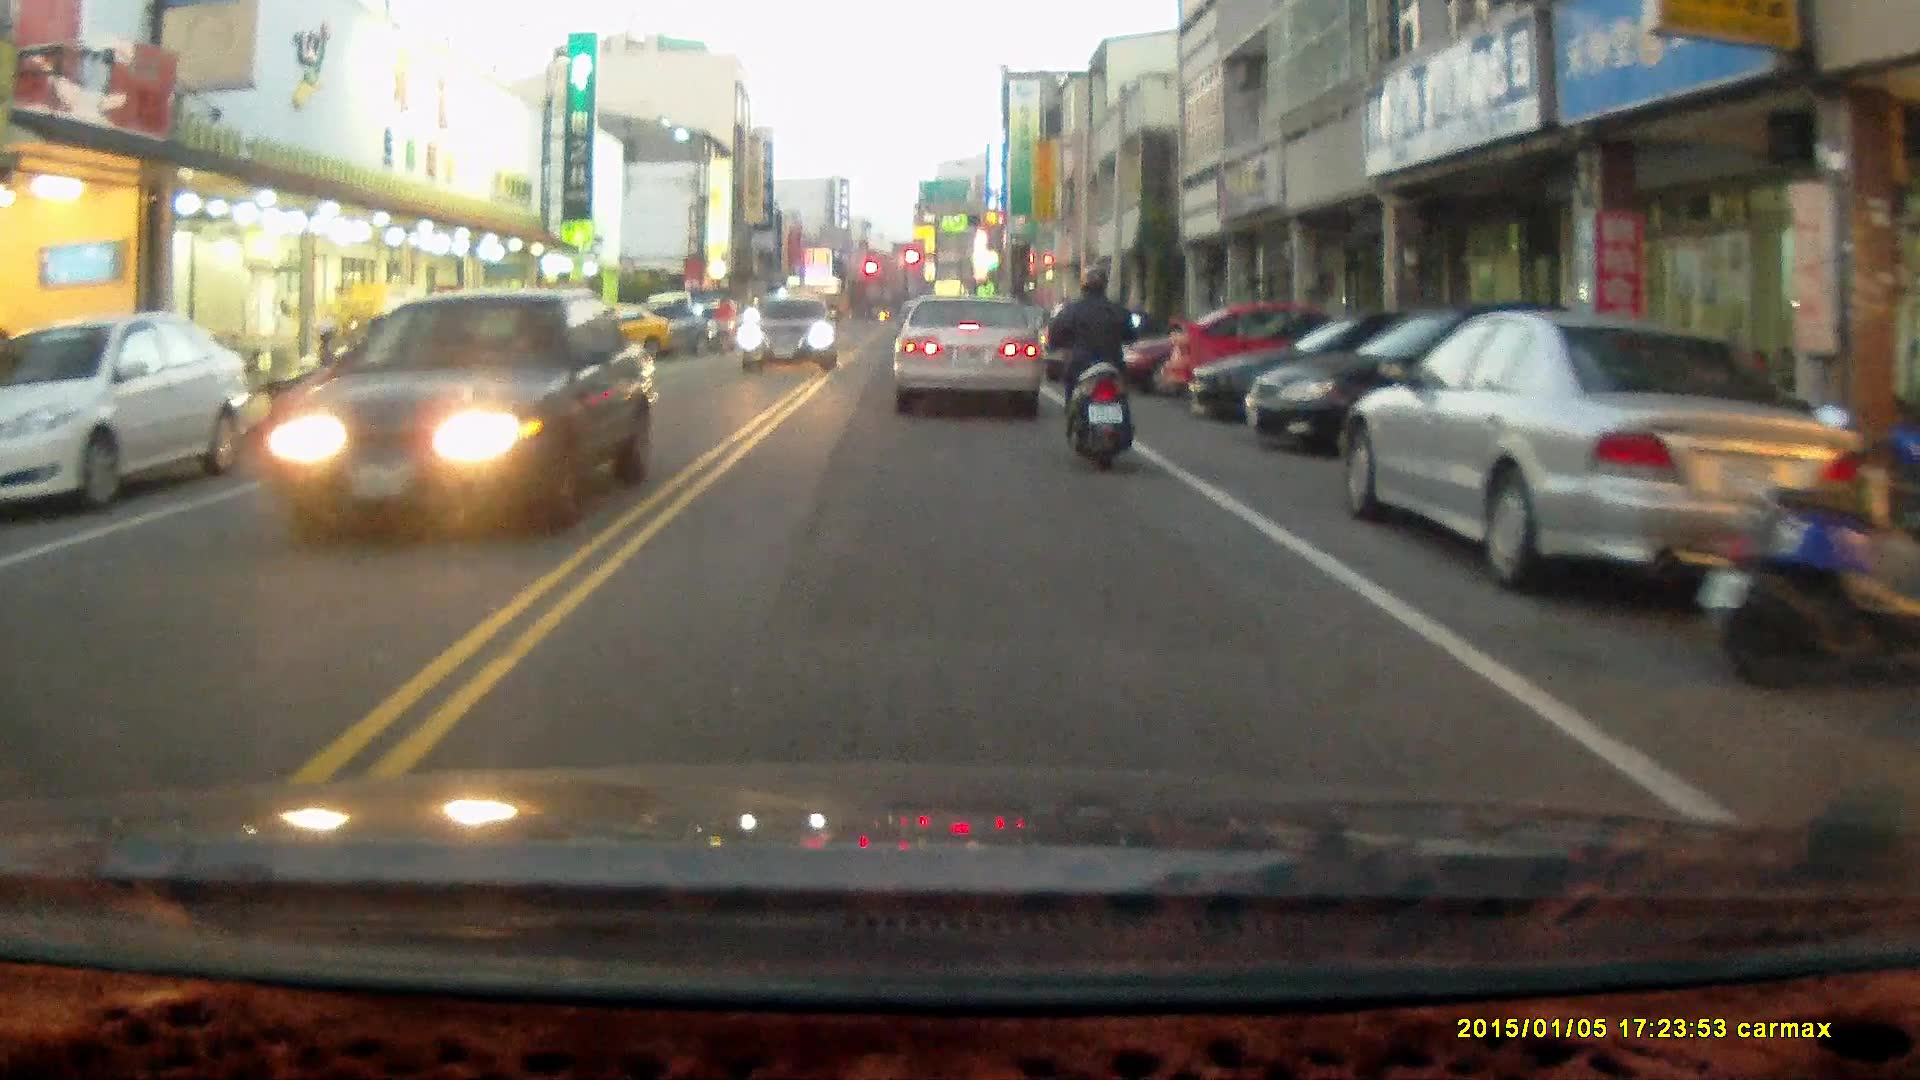pedestrian: (268, 296, 298, 370)
rider: (1043, 263, 1142, 473), (708, 289, 735, 355)
vehicle: (1345, 307, 1871, 596), (261, 285, 658, 538), (1241, 302, 1621, 446), (0, 313, 262, 516), (1181, 308, 1536, 427), (1160, 297, 1402, 399), (890, 294, 1043, 418), (736, 292, 839, 368)
